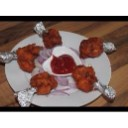chicken_lollipop: (76, 64, 121, 101), (15, 71, 56, 108), (1, 47, 40, 71), (79, 35, 121, 56), (34, 20, 68, 45)
